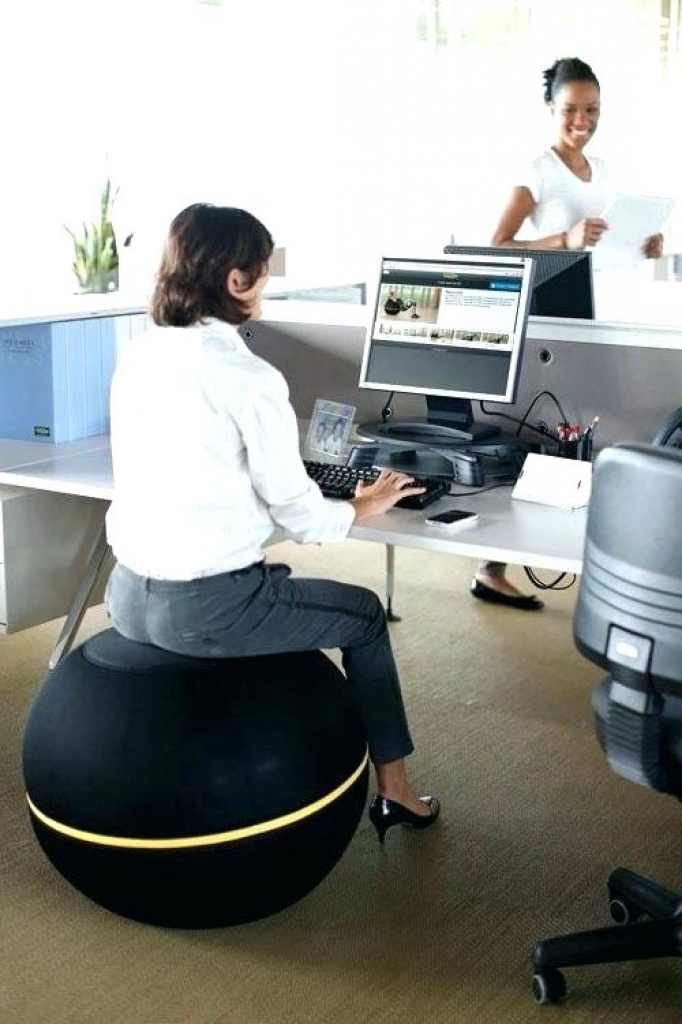yogaball: (19, 628, 378, 940)
